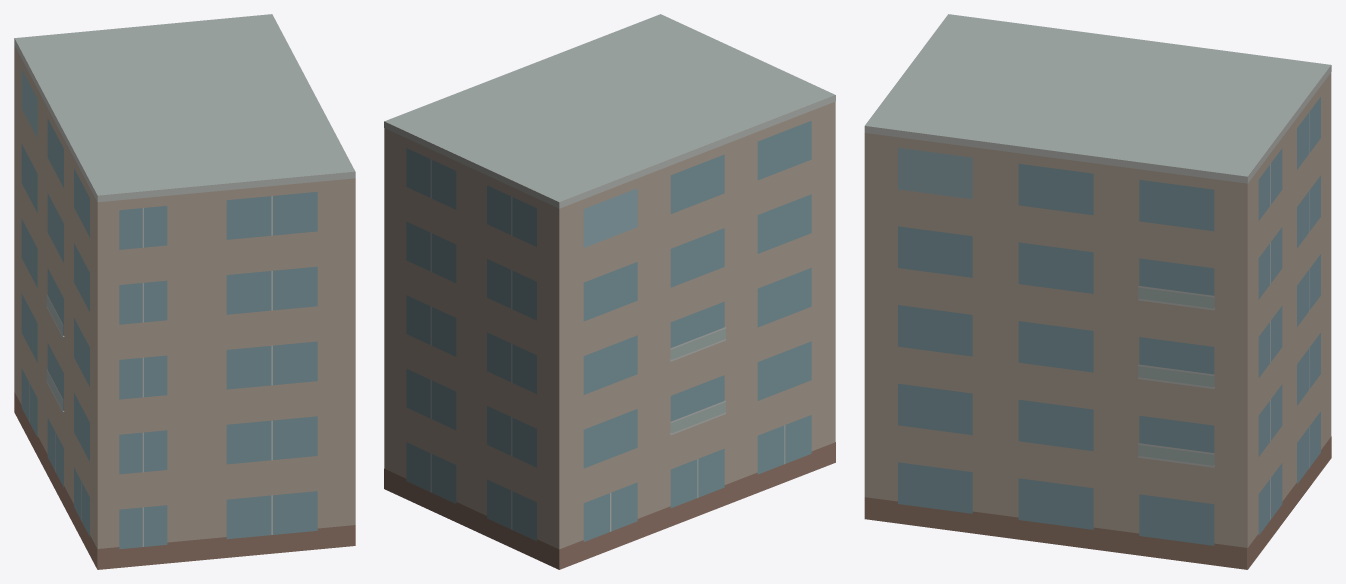
File: survey-upis-32882515.glb
The picture shows the model from 3 angles, left to right: view 1: azimuth 30°, elevation 25°; view 2: azimuth 150°, elevation 25°; view 3: azimuth 270°, elevation 25°; orthographic projection. The views are drawn at different scales.
Parts seen in each view (by area): view 1: survey-upis-32882515.tmp; view 2: survey-upis-32882515.tmp; view 3: survey-upis-32882515.tmp.
Boxes of the visible parts, box(x1,y1,x2,y2) form: survey-upis-32882515.tmp: box(14, 14, 355, 569); survey-upis-32882515.tmp: box(384, 14, 835, 569); survey-upis-32882515.tmp: box(864, 14, 1331, 569).
Size of the model in its own units: 12.25 by 13.8 by 14.86.
